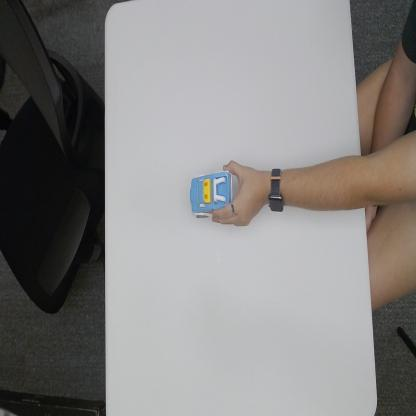Arm: (287, 155, 365, 211)
Car: (189, 170, 233, 220)
Hand: (210, 157, 268, 229)
